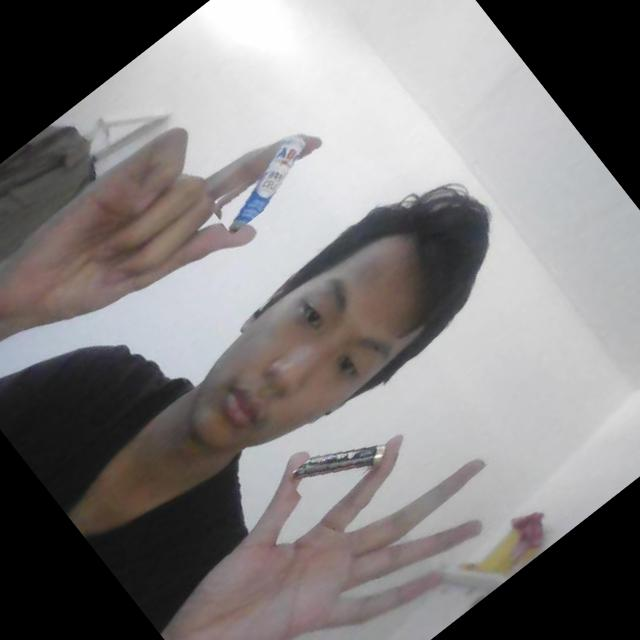Hazard: (203, 126, 326, 236), (286, 418, 392, 516)
